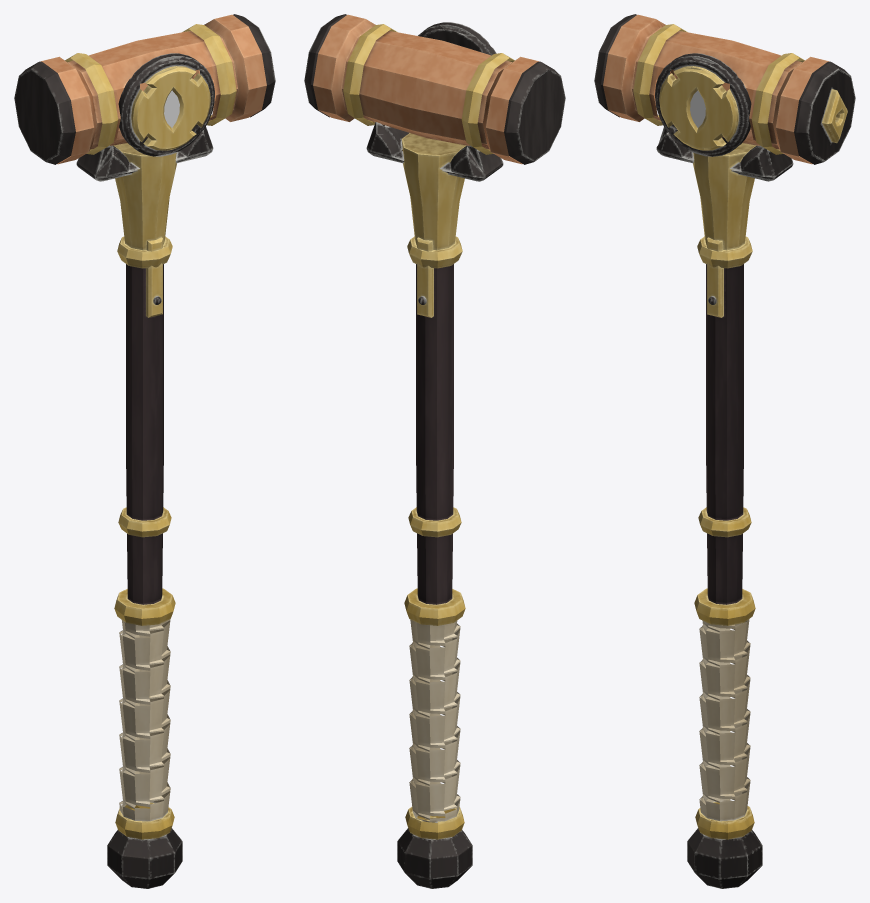
The model's file is Jackpot Mallet.fbx.
The picture shows the model from 3 angles, left to right: view 1: azimuth 30°, elevation 25°; view 2: azimuth 150°, elevation 25°; view 3: azimuth 330°, elevation 25°; orthographic projection.
Parts seen in each view (by area): view 1: Jackpot Mallet_Body; view 2: Jackpot Mallet_Body; view 3: Jackpot Mallet_Body.
Boxes of the visible parts, x1,y1,x2,y2 form: Jackpot Mallet_Body: (14,14,275,888); Jackpot Mallet_Body: (304,14,565,888); Jackpot Mallet_Body: (594,14,855,888).
Bounding box in the file's own units: 0.975 × 3.54 × 0.4174.
